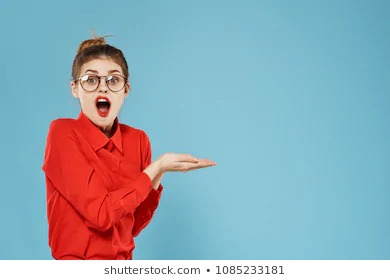C_blouse: (34, 107, 160, 260)
